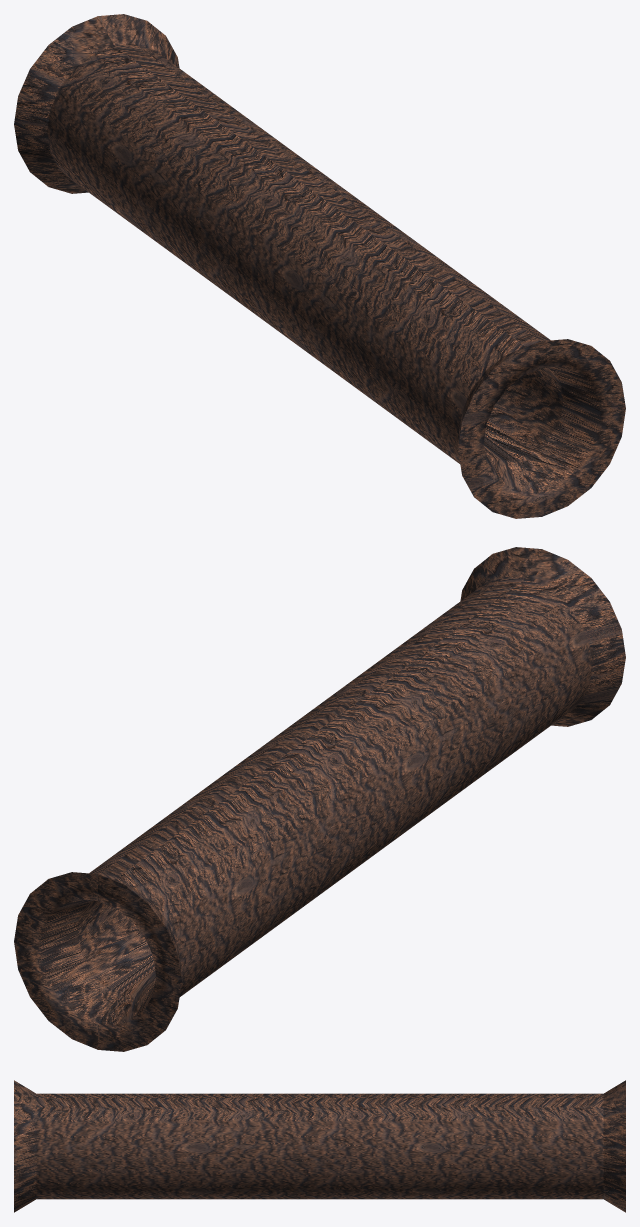
The model's file is log.fbx.
3 renders of one model, top to bottom at view 1: azimuth 30°, elevation 25°; view 2: azimuth 150°, elevation 25°; view 3: azimuth 270°, elevation 25°, orthographic. The views are drawn at different scales.
Visible parts, largest first — view 1: pCylinder1; view 2: pCylinder1; view 3: pCylinder1.
Boxes of the visible parts, x1=… form: pCylinder1: x1=14, y1=14, x2=625, y2=518; pCylinder1: x1=14, y1=547, x2=625, y2=1051; pCylinder1: x1=14, y1=1080, x2=625, y2=1212.
Bounding box in the file's own units: 2.5 × 2.5 × 11.47.
